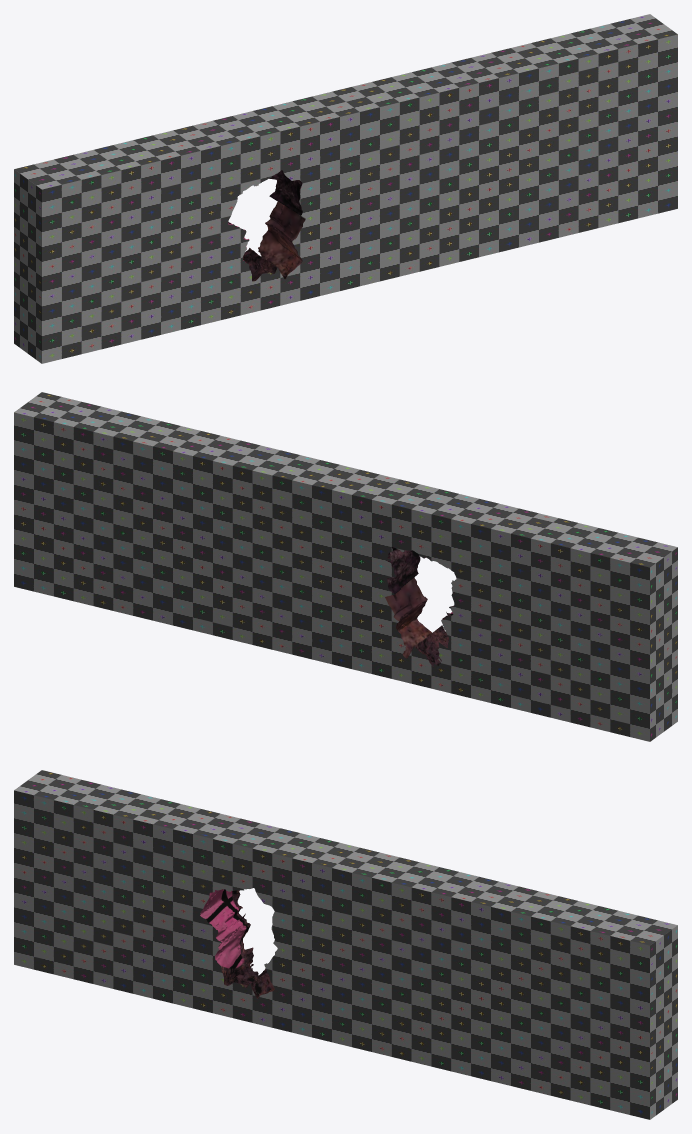
Rendered from wall06.glb.
3 renders of one model, top to bottom at view 1: azimuth 30°, elevation 25°; view 2: azimuth 150°, elevation 25°; view 3: azimuth 330°, elevation 25°, orthographic.
Visible parts, largest first — view 1: Wall.006; view 2: Wall.006; view 3: Wall.006.
Part boxes in pixels (<box>): Wall.006: <box>14,14,677,363</box>; Wall.006: <box>14,392,677,741</box>; Wall.006: <box>14,770,677,1119</box>.
Size of the model in its own units: 6.16 by 1.61 by 0.4679.
Materials: 2 (2 with a texture image).
